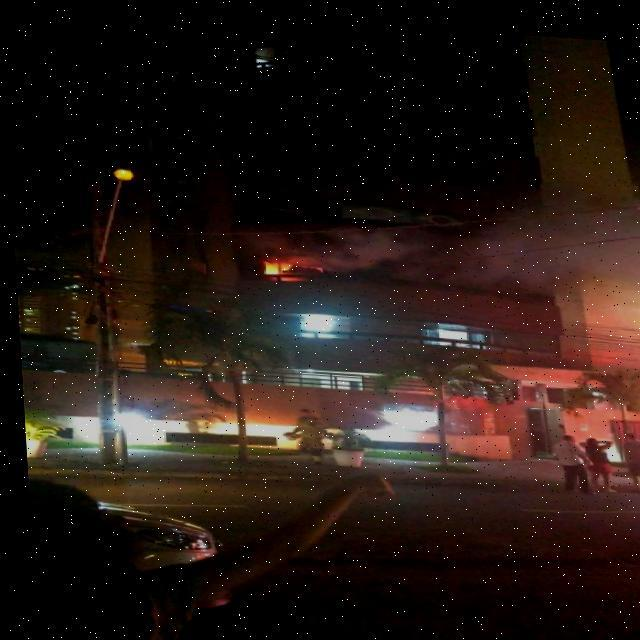Fire: (254, 255, 293, 272)
